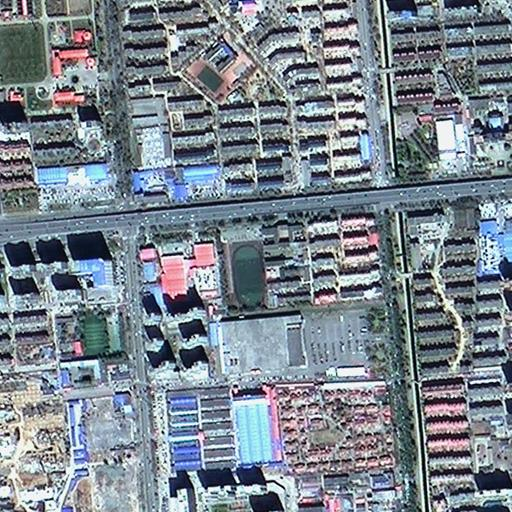school: (216, 218, 312, 315), (180, 32, 254, 104)
